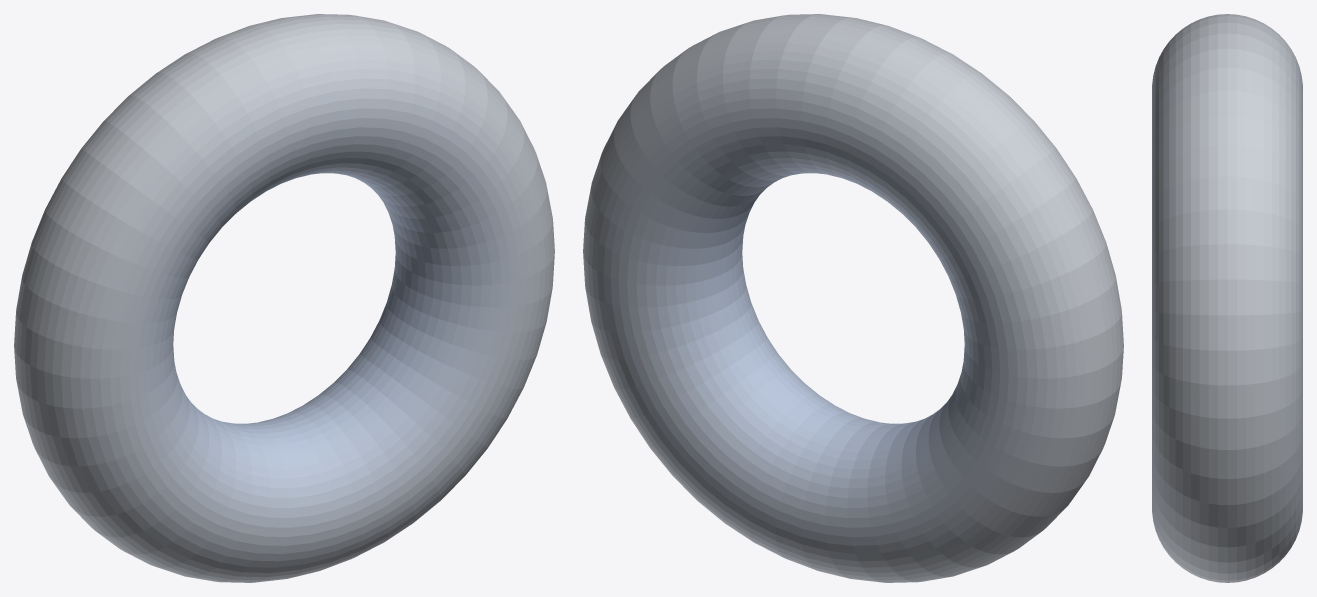
3 views of the same model, side by side, from view 1: azimuth 30°, elevation 25°; view 2: azimuth 150°, elevation 25°; view 3: azimuth 270°, elevation 25° (orthographic). The views are drawn at different scales.
Visible parts, largest first — view 1: world; view 2: world; view 3: world.
Part boxes in pixels (x1,y1,x2,y2): world: (14,14,554,582); world: (583,14,1123,582); world: (1152,14,1302,582).
Bounding box in the file's own units: 23.6 × 23.55 × 6.25.
